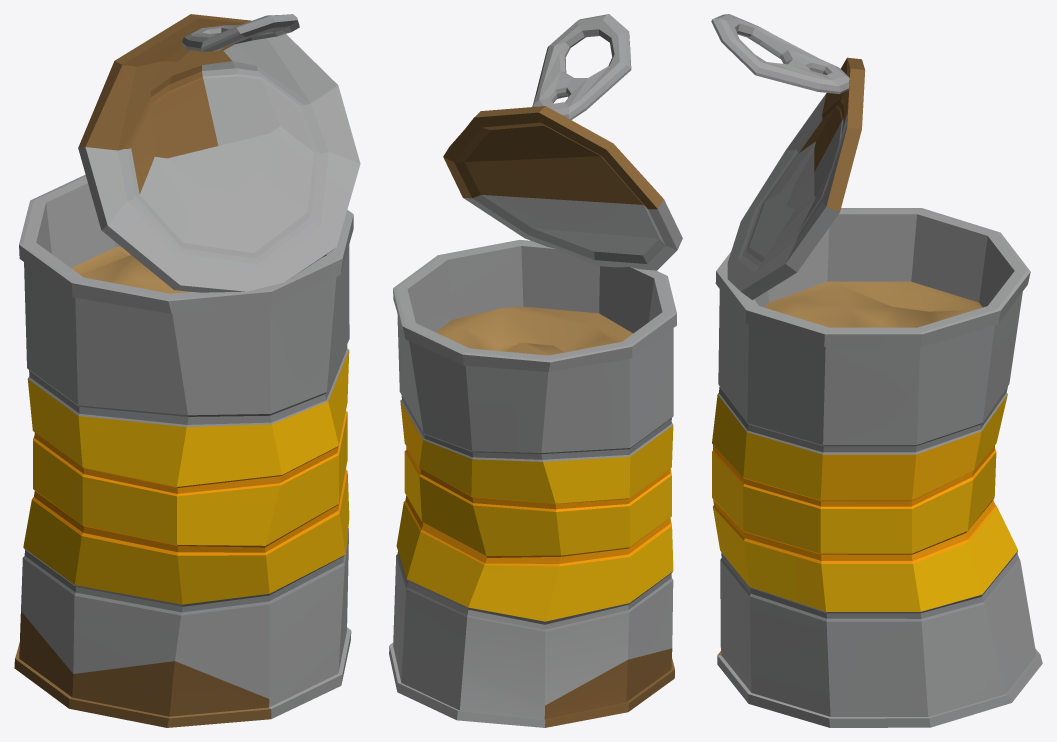
The model's file is open can with food.glb.
3 views of the same model, side by side, from view 1: azimuth 30°, elevation 25°; view 2: azimuth 150°, elevation 25°; view 3: azimuth 270°, elevation 25° (orthographic). The views are drawn at different scales.
Visible parts, largest first — view 1: can, tab, lid; view 2: can, tab, lid; view 3: can, tab, lid.
Boxes of the visible parts, bbox=[...] form: can: bbox=[14, 174, 353, 727]; tab: bbox=[78, 14, 360, 292]; lid: bbox=[182, 14, 299, 51]; can: bbox=[389, 240, 676, 727]; tab: bbox=[443, 106, 682, 270]; lid: bbox=[532, 14, 631, 119]; can: bbox=[712, 208, 1042, 727]; tab: bbox=[727, 57, 865, 299]; lid: bbox=[711, 14, 849, 93].
Size of the model in its own units: 0.1046 by 0.2491 by 0.1158.
1 material, 1 textured.
